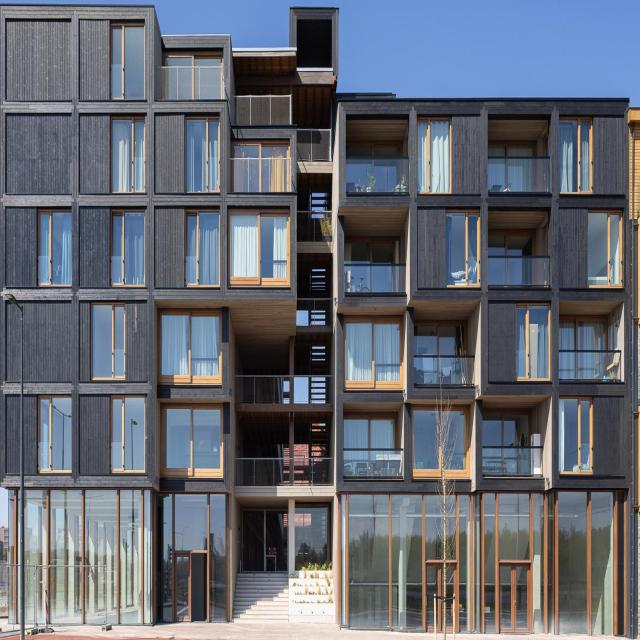Railing: (236, 373, 332, 405), (233, 456, 336, 484), (346, 157, 409, 196), (488, 154, 551, 193), (158, 66, 224, 100), (558, 349, 622, 382), (481, 444, 543, 478), (487, 253, 550, 285), (413, 354, 474, 387), (234, 93, 292, 126), (346, 263, 406, 293), (345, 448, 404, 476)
door: (172, 550, 210, 626), (243, 511, 289, 572), (497, 559, 534, 631), (422, 562, 460, 630)
wall: (0, 5, 637, 635)
windows: (342, 492, 614, 629), (9, 490, 153, 625), (158, 492, 227, 622), (155, 310, 224, 383), (159, 404, 223, 478), (228, 213, 290, 286), (342, 321, 402, 393), (412, 404, 467, 476), (557, 116, 594, 198), (110, 116, 147, 194), (108, 398, 145, 476), (234, 142, 289, 193), (588, 208, 623, 288), (90, 301, 124, 381), (38, 396, 72, 475), (559, 397, 594, 473), (517, 302, 551, 380), (186, 115, 219, 194), (162, 56, 222, 98), (111, 212, 144, 288), (186, 211, 218, 289), (111, 27, 146, 98), (37, 211, 70, 286), (447, 208, 480, 283), (417, 117, 451, 188), (296, 502, 330, 571), (558, 314, 608, 353), (413, 322, 468, 356), (344, 414, 396, 449), (481, 411, 530, 443), (345, 237, 400, 264), (488, 230, 535, 253), (346, 141, 403, 156), (488, 140, 536, 154)
